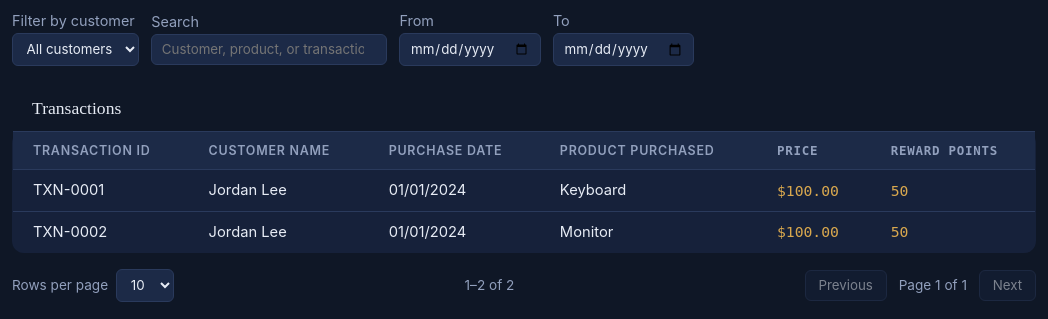
Test case: TransactionsTable › filters by customerId so same-named customers are distinguishable
Select "Jordan Lee" in the dropdown labelled "Filter by customer" at (76, 49), box [12,33,139,66]
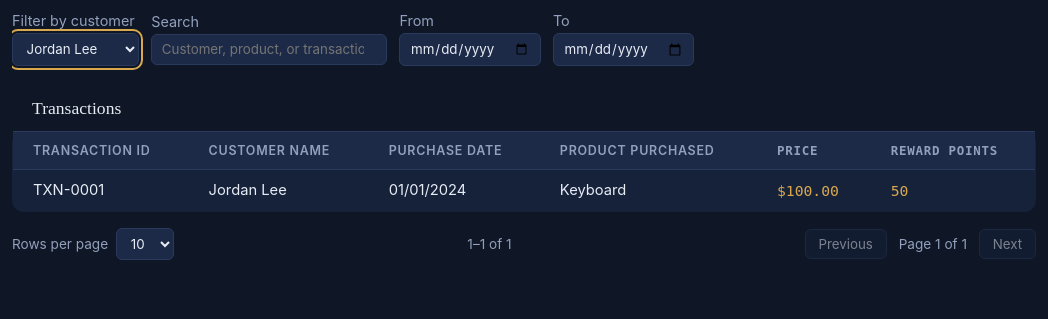
expect the text "TXN-0001" is shown: met, box [12,170,189,211]
expect the text "TXN-0002" is gone: met
